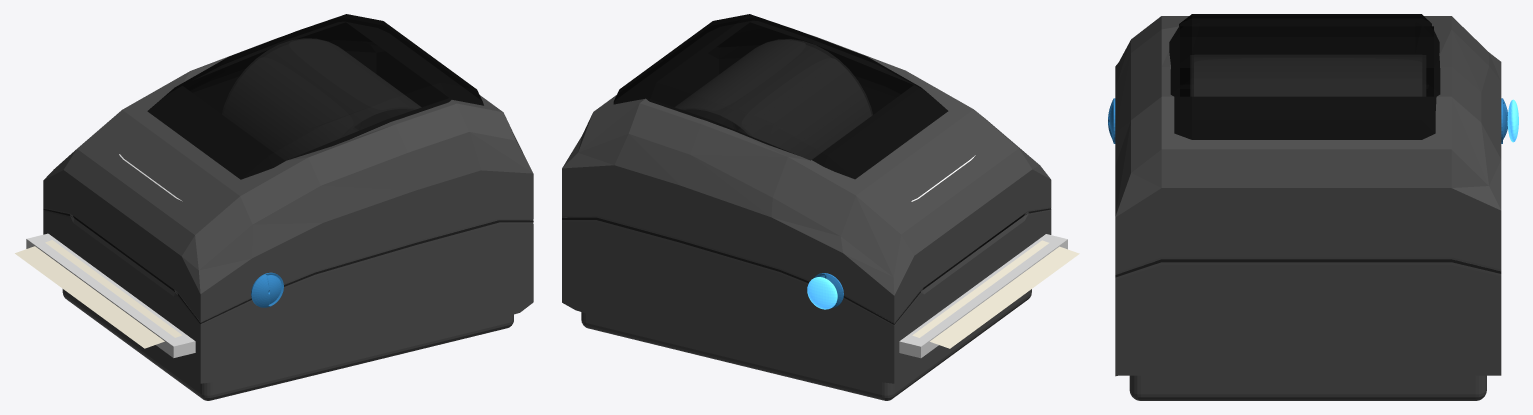
File: label_printer.glb
3 views of the same model, side by side, from view 1: azimuth 30°, elevation 25°; view 2: azimuth 150°, elevation 25°; view 3: azimuth 270°, elevation 25° (orthographic). The views are drawn at different scales.
Visible parts, largest first — view 1: Body, Cover, Base, Looplings_Receipt_Paper, Looplings_Receipt_Slot_Lip, Lines, Buttons; view 2: Body, Cover, Base, Looplings_Receipt_Paper, Looplings_Receipt_Slot_Lip, Lines, Looplings_Status_Lens; view 3: Body, Cover, Base, Lines, Buttons, Looplings_Status_Lens.
Boxes of the visible parts, bbox=[...] form: Body: bbox=[43, 37, 533, 383]; Cover: bbox=[147, 14, 483, 179]; Base: bbox=[62, 289, 513, 400]; Looplings_Receipt_Paper: bbox=[15, 240, 181, 348]; Looplings_Receipt_Slot_Lip: bbox=[26, 233, 195, 357]; Lines: bbox=[43, 208, 533, 323]; Buttons: bbox=[251, 272, 283, 307]; Body: bbox=[562, 34, 1051, 383]; Cover: bbox=[613, 14, 948, 179]; Base: bbox=[581, 289, 1031, 400]; Looplings_Receipt_Paper: bbox=[912, 240, 1079, 348]; Looplings_Receipt_Slot_Lip: bbox=[899, 234, 1067, 358]; Lines: bbox=[562, 208, 1051, 324]; Looplings_Status_Lens: bbox=[807, 277, 837, 309]; Body: bbox=[1115, 16, 1501, 376]; Cover: bbox=[1169, 14, 1440, 139]; Base: bbox=[1129, 375, 1486, 400]; Lines: bbox=[1115, 259, 1501, 277]; Buttons: bbox=[1108, 98, 1507, 143]; Looplings_Status_Lens: bbox=[1507, 99, 1518, 142].
Size of the model in its own units: 0.2362 by 0.1448 by 0.1825.
